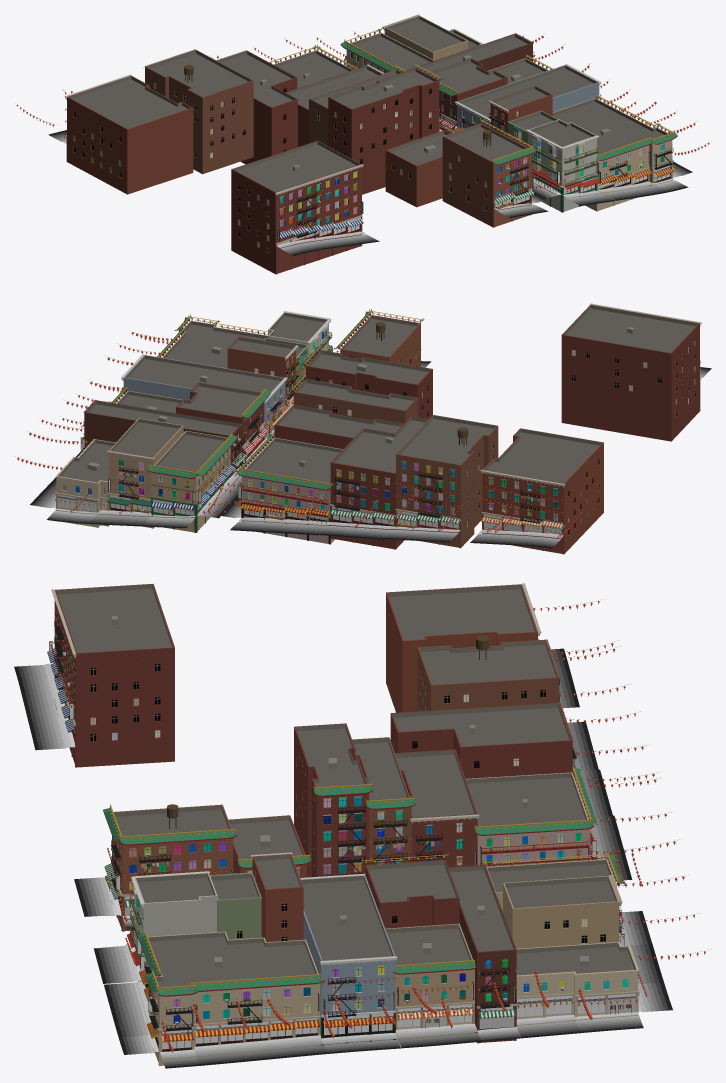
The picture shows the model from 3 angles, top to bottom: view 1: azimuth 30°, elevation 25°; view 2: azimuth 150°, elevation 25°; view 3: azimuth 270°, elevation 25°; orthographic projection. The views are drawn at different scales.
Visible parts, largest first — view 1: L0_brickred, L0_roof, L0_d_brickred, L0_stone, L0_ground, L0_d_metal, L0_stucco, L0_d_paint, L0_cwin, L0_d_fabric, L0_brick, L0_win (+8 smaller); view 2: L0_roof, L0_brickred, L0_ground, L0_stone, L0_d_metal, L0_stucco, L0_d_fabric, L0_d_paint, L0_cwin, L0_d_brickred, L0_brick, L0_d_stone (+9 smaller); view 3: L0_roof, L0_brickred, L0_ground, L0_brick, L0_d_metal, L0_stucco, L0_stone, L0_cwin, L0_d_paint, L0_rooftile, L0_d_fabric, L0_d_brickred (+9 smaller).
Boxes of the visible parts, x1,y1,x2,y2 form: L0_brickred: [67, 64, 552, 273]; L0_roof: [69, 16, 667, 192]; L0_d_brickred: [127, 43, 532, 239]; L0_stone: [64, 14, 673, 244]; L0_ground: [48, 129, 692, 255]; L0_d_metal: [18, 35, 708, 246]; L0_stucco: [346, 50, 596, 211]; L0_d_paint: [66, 28, 677, 236]; L0_cwin: [280, 53, 663, 230]; L0_d_fabric: [20, 34, 698, 238]; L0_brick: [481, 44, 672, 210]; L0_win: [73, 83, 518, 252]; L0_roof: [58, 305, 698, 483]; L0_brickred: [190, 323, 699, 553]; L0_ground: [30, 361, 711, 548]; L0_stone: [55, 303, 701, 527]; L0_d_metal: [50, 327, 700, 534]; L0_stucco: [151, 323, 330, 543]; L0_d_fabric: [18, 334, 700, 538]; L0_d_paint: [108, 310, 700, 526]; L0_cwin: [63, 330, 557, 521]; L0_d_brickred: [84, 355, 558, 548]; L0_brick: [56, 326, 215, 527]; L0_d_stone: [56, 325, 700, 554]; L0_roof: [56, 584, 636, 987]; L0_brickred: [54, 600, 572, 1042]; L0_ground: [14, 648, 672, 1068]; L0_brick: [146, 902, 637, 1065]; L0_d_metal: [49, 603, 704, 1051]; L0_stucco: [134, 829, 590, 1045]; L0_stone: [51, 583, 639, 1031]; L0_cwin: [129, 797, 628, 1023]; L0_d_paint: [61, 634, 631, 1023]; L0_rooftile: [103, 768, 624, 995]; L0_d_fabric: [47, 603, 704, 1052]; L0_d_brickred: [55, 593, 508, 1042].
Bounding box in the file's own units: 156 × 35.57 × 124.
